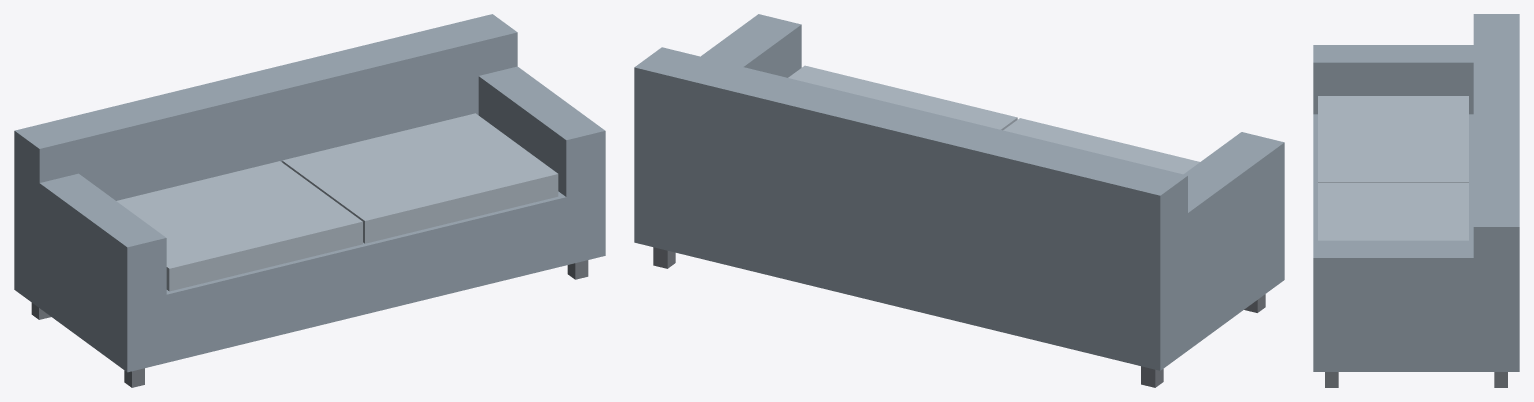
File: sofa.glb
3 views of the same model, side by side, from view 1: azimuth 30°, elevation 25°; view 2: azimuth 150°, elevation 25°; view 3: azimuth 270°, elevation 25° (orthographic). The views are drawn at different scales.
Parts seen in each view (by area): view 1: Sofa_Back, Sofa_Base, Sofa_Cushion_R, Sofa_Cushion_L, Sofa_Arm_L, Sofa_Arm_R, Sofa; view 2: Sofa_Back, Sofa_Base, Sofa_Arm_L, Sofa_Arm_R, Sofa_Cushion_R, Sofa_Cushion_L, Sofa; view 3: Sofa_Base, Sofa_Back, Sofa_Cushion_L, Sofa_Arm_R, Sofa_Cushion_R, Sofa_Arm_L, Sofa.
Boxes of the visible parts, <box> form: Sofa_Back: <box>14,14,517,239</box>; Sofa_Base: <box>14,187,605,372</box>; Sofa_Cushion_R: <box>282,113,558,243</box>; Sofa_Cushion_L: <box>116,161,362,291</box>; Sofa_Arm_L: <box>39,173,166,304</box>; Sofa_Arm_R: <box>478,66,605,196</box>; Sofa: <box>31,260,588,387</box>; Sofa_Back: <box>634,47,1187,295</box>; Sofa_Base: <box>634,167,1284,370</box>; Sofa_Arm_L: <box>1183,132,1284,275</box>; Sofa_Arm_R: <box>701,14,801,77</box>; Sofa_Cushion_R: <box>788,65,1017,130</box>; Sofa_Cushion_L: <box>1003,118,1199,174</box>; Sofa: <box>653,247,1265,387</box>; Sofa_Base: <box>1313,114,1519,371</box>; Sofa_Back: <box>1473,14,1519,309</box>; Sofa_Cushion_L: <box>1318,96,1468,182</box>; Sofa_Arm_R: <box>1313,240,1473,309</box>; Sofa_Cushion_R: <box>1318,183,1468,240</box>; Sofa_Arm_L: <box>1313,45,1473,114</box>; Sofa: <box>1325,372,1507,387</box>.
Bounding box in the file's own units: 2.2 × 0.8 × 0.9.
